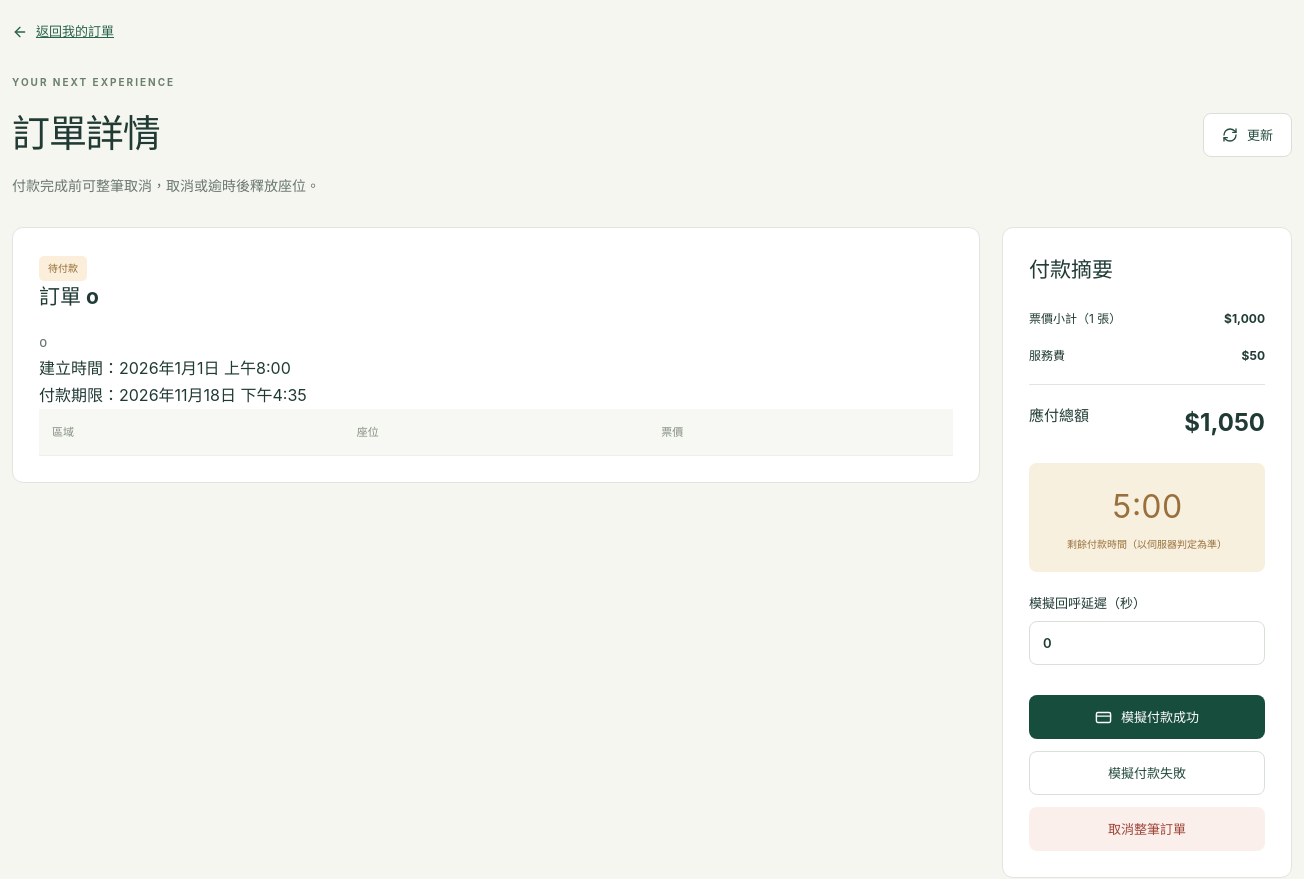
付款回應遺失後重試沿用同一個 Idempotency-Key，金額以訂單回應為準
Check: the text "$1,050" is shown, box [1184, 405, 1265, 441]
Step 1. Click the button "模擬付款成功" → click(1147, 717), box [1029, 695, 1265, 739]
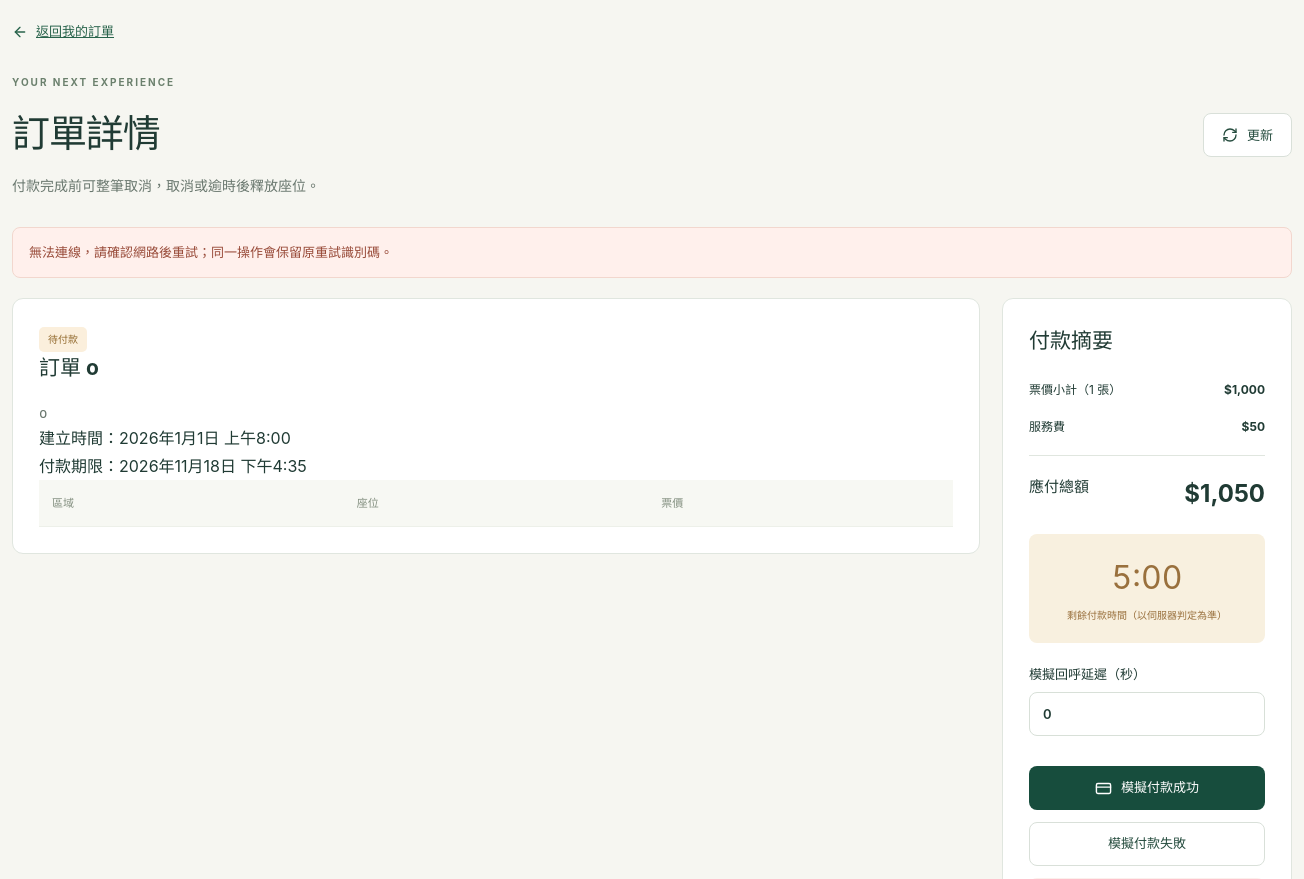
Check: the message shows "無法連線", box [29, 244, 393, 260]
Step 2. Click the button "模擬付款成功" → click(1147, 788), box [1029, 766, 1265, 810]
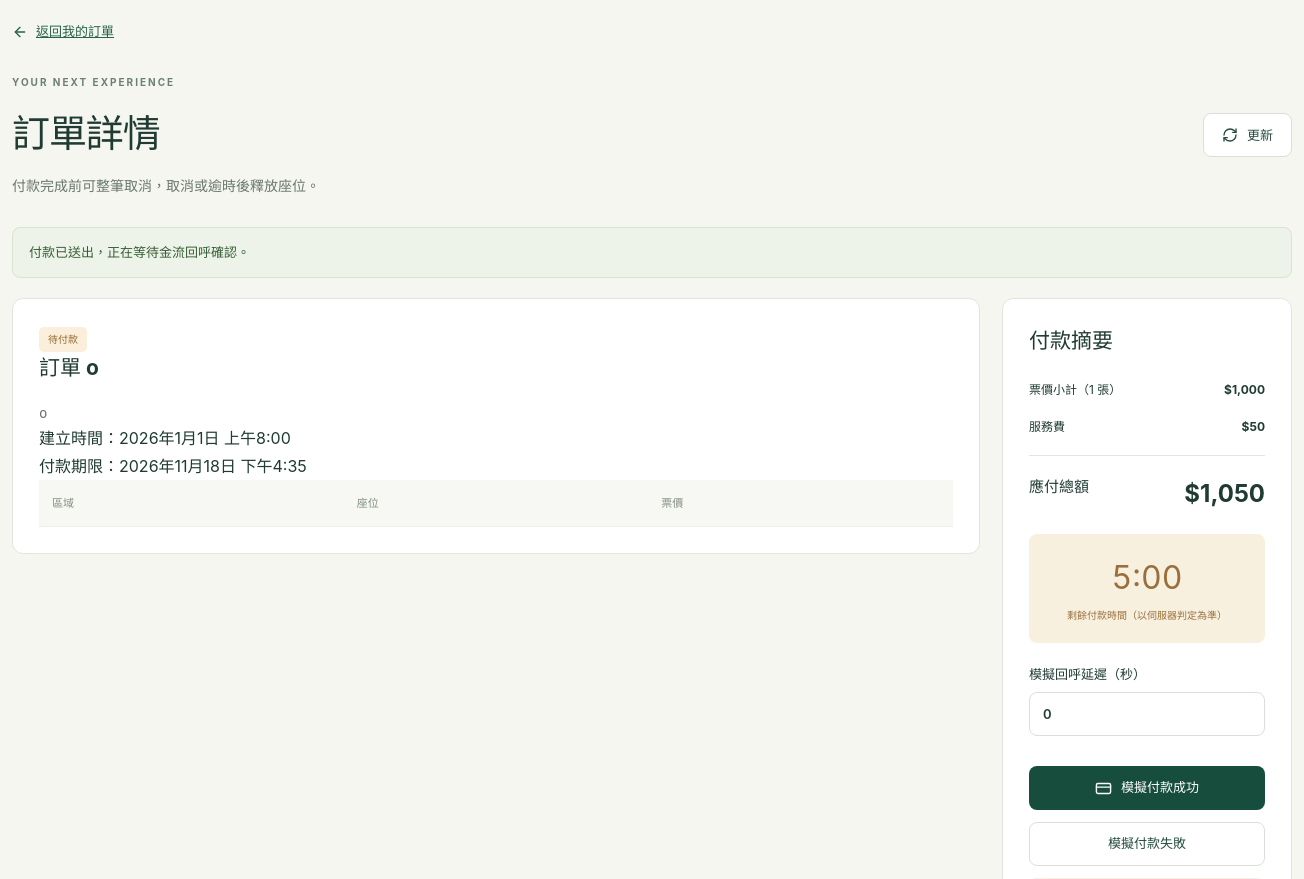
Check: the text "付款已送出，正在等待金流回呼確認。" is shown, box [12, 227, 1292, 278]
